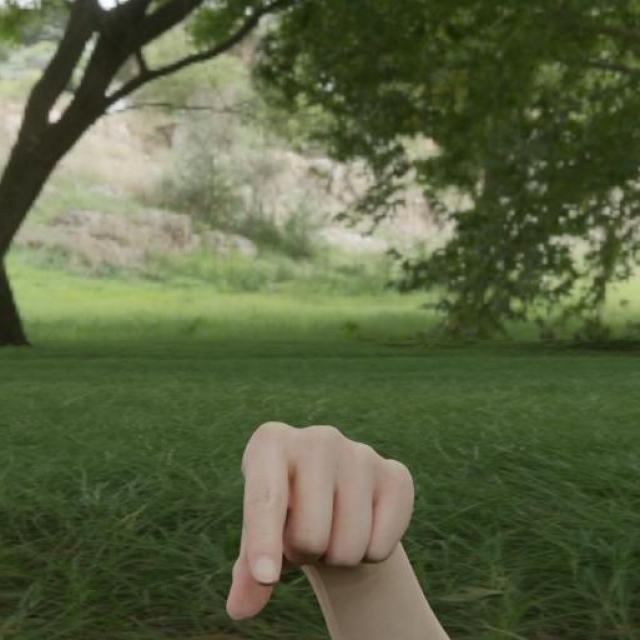Q: (222, 418, 416, 622)
